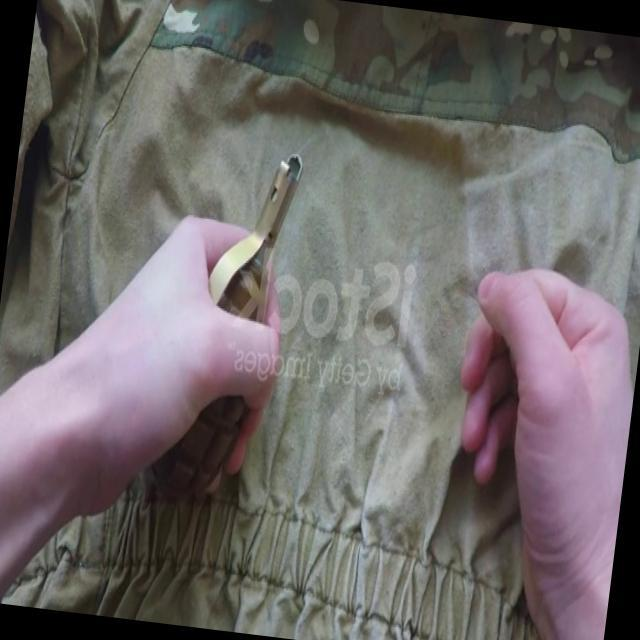grenade: (146, 144, 302, 511)
